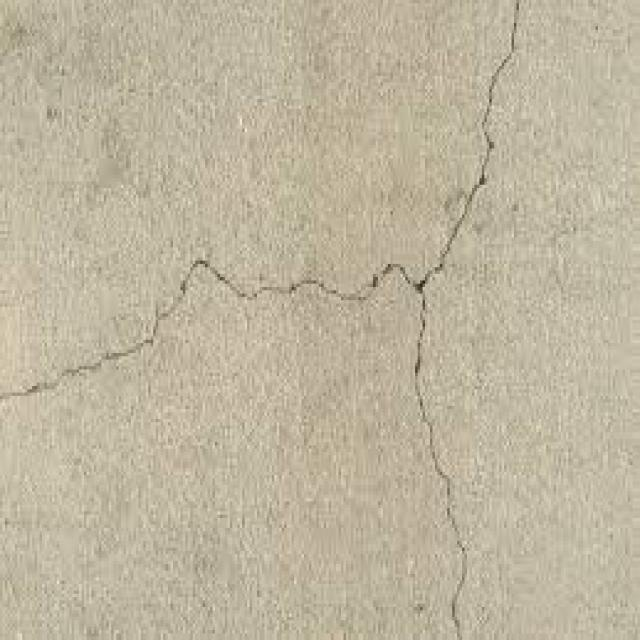crack: (0, 0, 520, 399)
